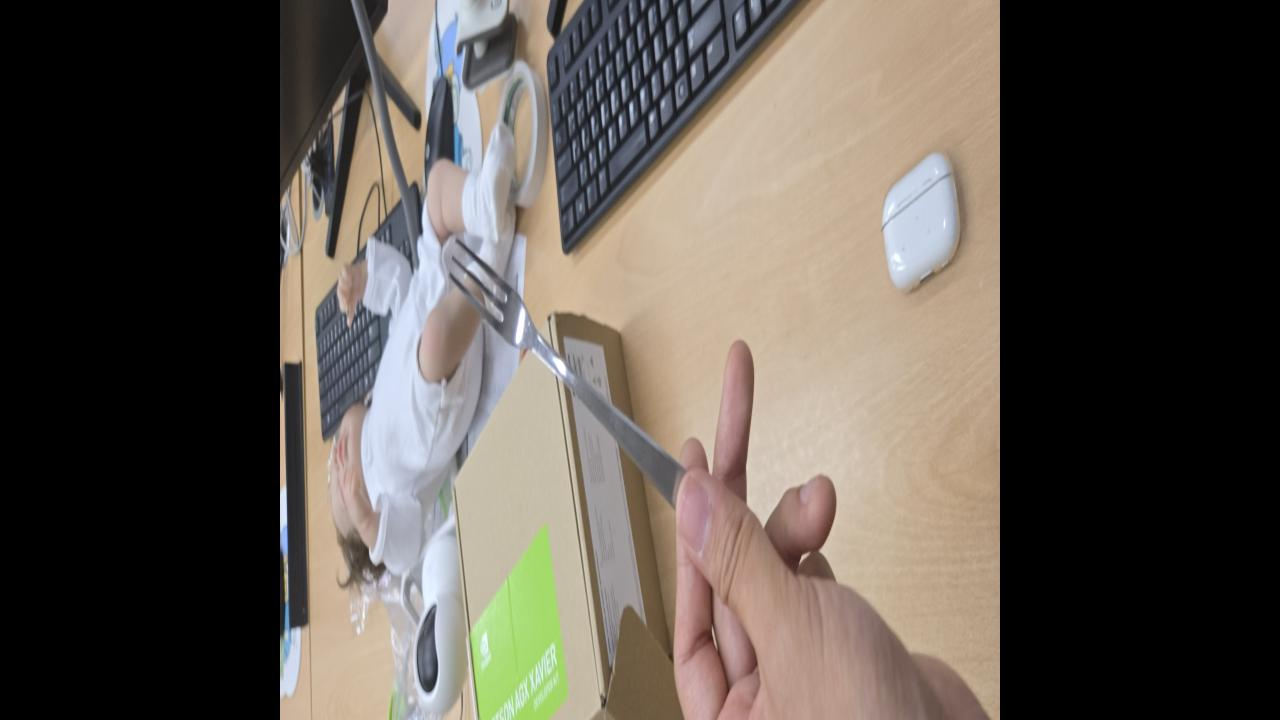fork: (450, 237, 688, 507)
hand: (344, 463, 368, 526), (337, 258, 357, 324)
